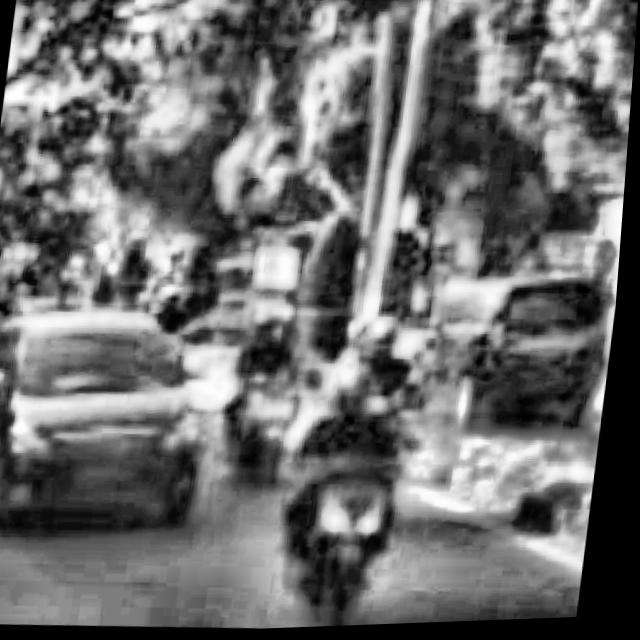motorcycle: (267, 427, 435, 623), (209, 333, 326, 499)
